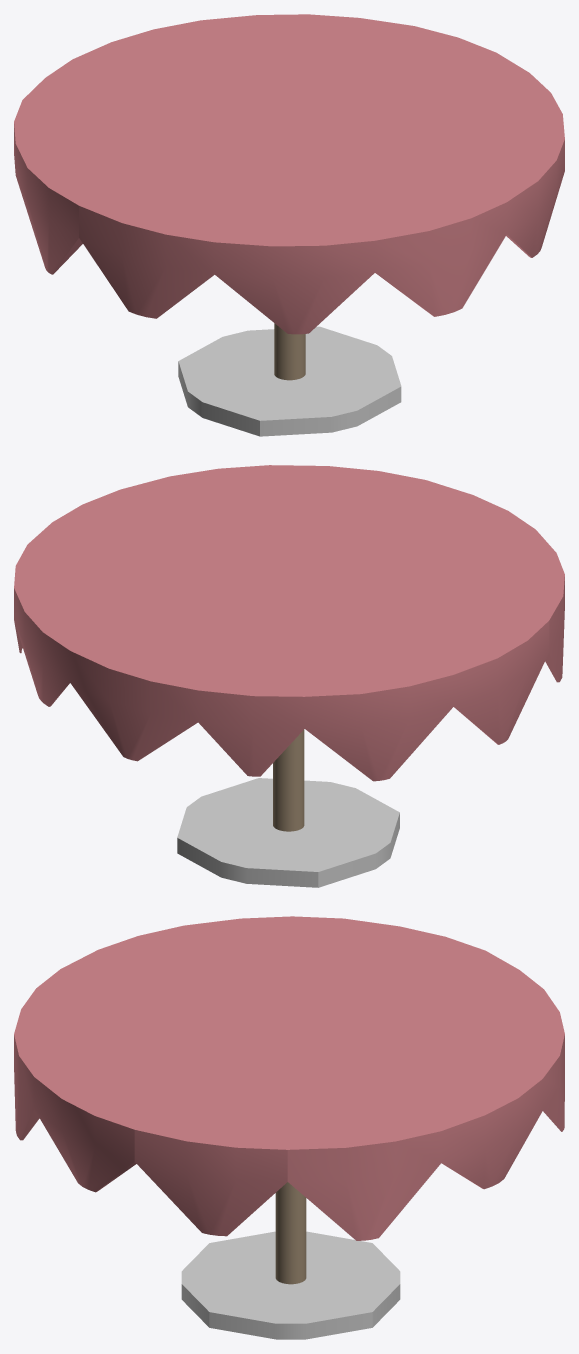
The model's file is Table.fbx.
The picture shows the model from 3 angles, top to bottom: view 1: azimuth 30°, elevation 25°; view 2: azimuth 150°, elevation 25°; view 3: azimuth 270°, elevation 25°; orthographic projection.
Parts seen in each view (by area): view 1: Cylinder.001, Cube, Cylinder; view 2: Cylinder.001, Cube, Cylinder; view 3: Cylinder.001, Cube, Cylinder.
Part boxes in pixels (<box>): Cylinder.001: <box>14,14,564,334</box>; Cube: <box>178,326,401,436</box>; Cylinder: <box>274,323,305,380</box>; Cylinder.001: <box>14,465,564,781</box>; Cube: <box>177,778,399,887</box>; Cylinder: <box>273,729,304,831</box>; Cylinder.001: <box>14,916,564,1240</box>; Cube: <box>181,1231,400,1339</box>; Cylinder: <box>275,1182,306,1284</box>.
Bounding box in the file's own units: 1086 × 563 × 1083.
